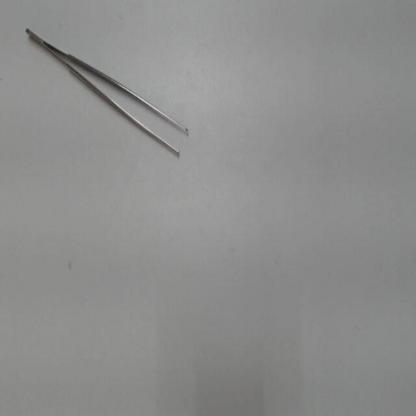Gillies Toothed Dissector: (23, 14, 200, 170)
